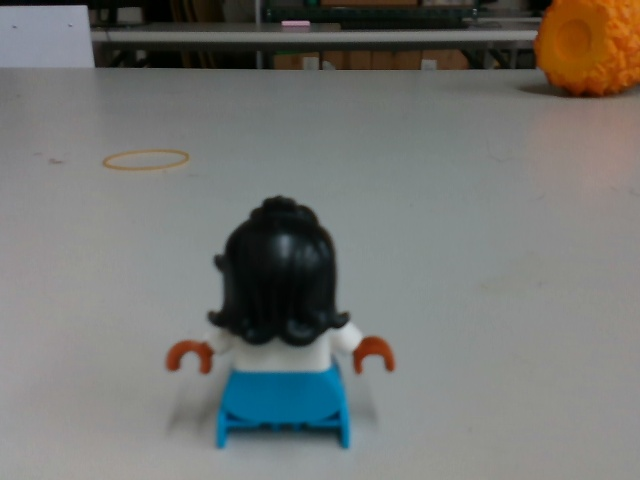people: (163, 188, 402, 453)
